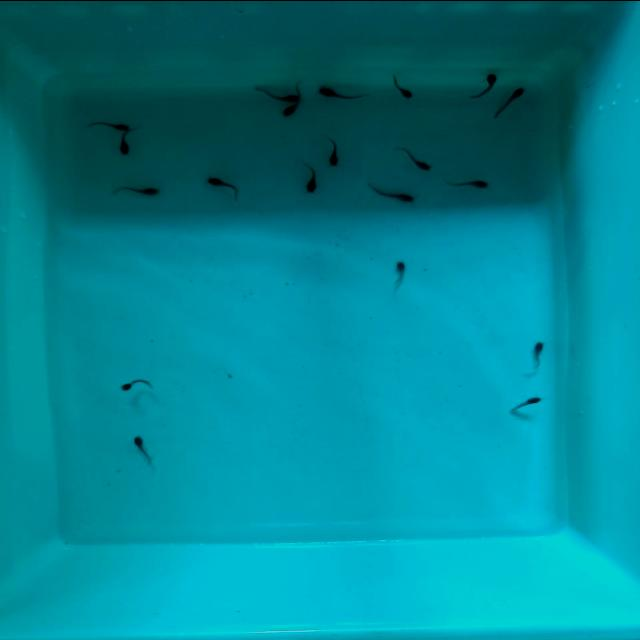lele: (490, 85, 528, 120), (466, 68, 504, 102), (364, 181, 416, 203), (396, 142, 432, 172), (278, 82, 307, 119), (252, 84, 300, 104), (205, 174, 241, 196), (386, 75, 415, 100), (507, 393, 543, 412), (316, 87, 367, 98), (443, 177, 488, 187), (86, 121, 130, 131), (134, 436, 150, 461), (302, 164, 316, 192), (110, 187, 158, 195), (392, 259, 406, 285), (326, 136, 338, 166), (532, 342, 544, 368), (120, 379, 151, 389), (118, 131, 128, 157)
